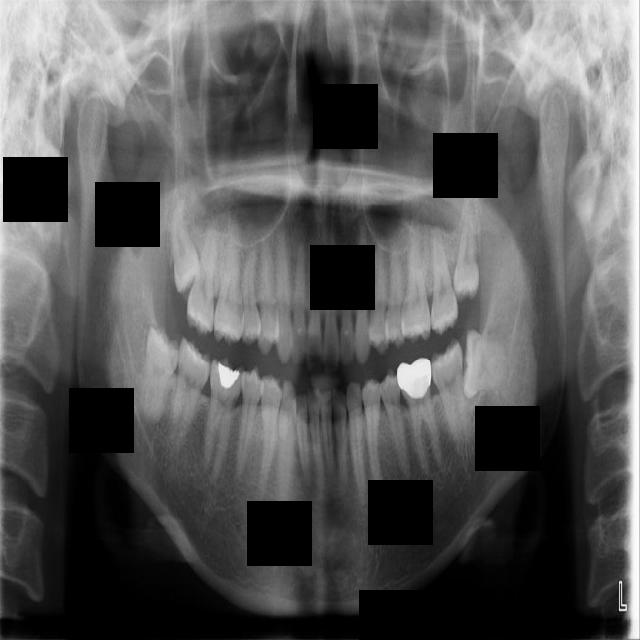3M ESPE Implant: (168, 200, 203, 301)
52: (394, 358, 438, 407), (209, 359, 245, 407)
73: (613, 584, 619, 598)
BioHorizons Implant: (431, 231, 459, 337)
BioLife Implant: (453, 191, 479, 303)
Biomet 3i Implant: (461, 329, 511, 403)
Blue Sky Bio Implant: (428, 335, 470, 457)
Caries: (185, 215, 220, 339)
Implant: (167, 336, 214, 459)
Keystone Dental Implant: (138, 318, 184, 425)
